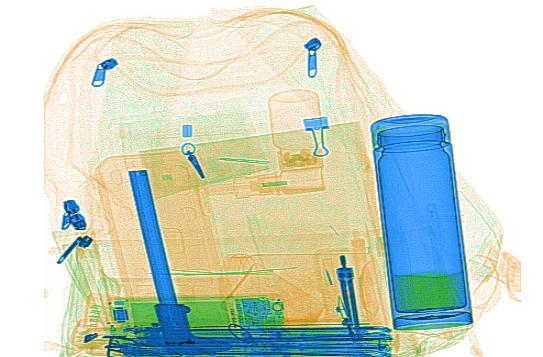plasticBottleWithaNozzle: (205, 163, 326, 196)
